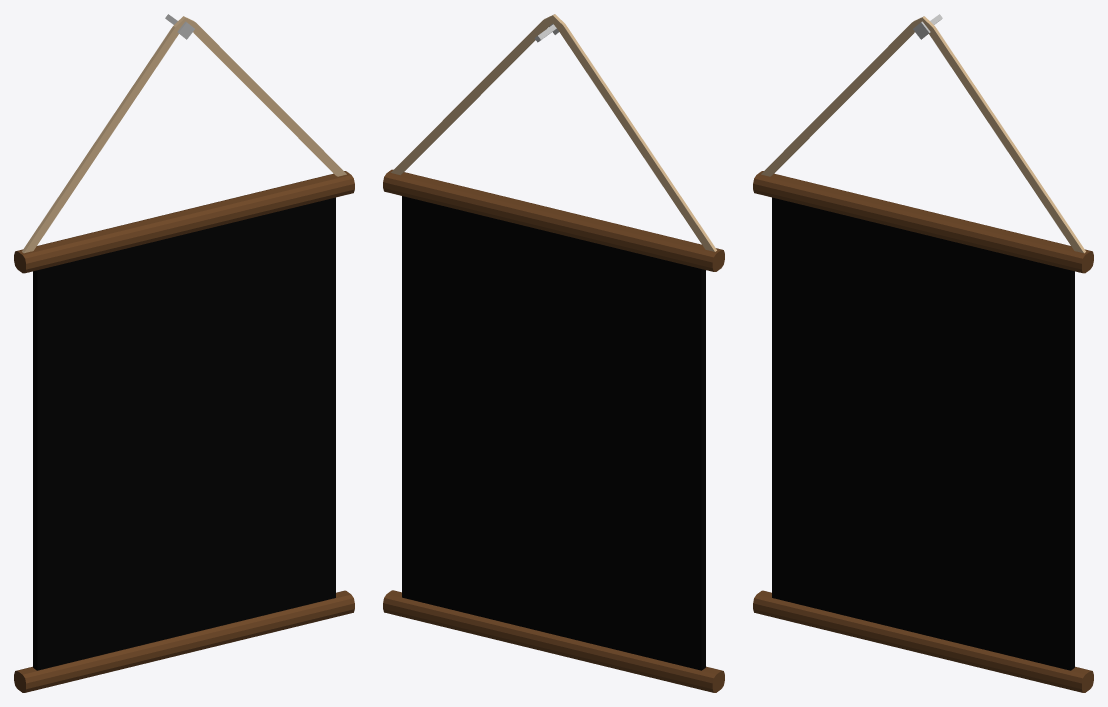
File: Cartel_Colgante.fbx
3 views of the same model, side by side, from view 1: azimuth 30°, elevation 25°; view 2: azimuth 150°, elevation 25°; view 3: azimuth 330°, elevation 25° (orthographic).
Visible parts, largest first — view 1: Cartel_Colgante; view 2: Cartel_Colgante; view 3: Cartel_Colgante.
Boxes of the visible parts, box(x1,y1,x2,y2) form: Cartel_Colgante: box(14, 14, 354, 692); Cartel_Colgante: box(383, 14, 724, 692); Cartel_Colgante: box(753, 14, 1093, 692).
Bounding box in the file's own units: 55 × 101 × 6.44.
